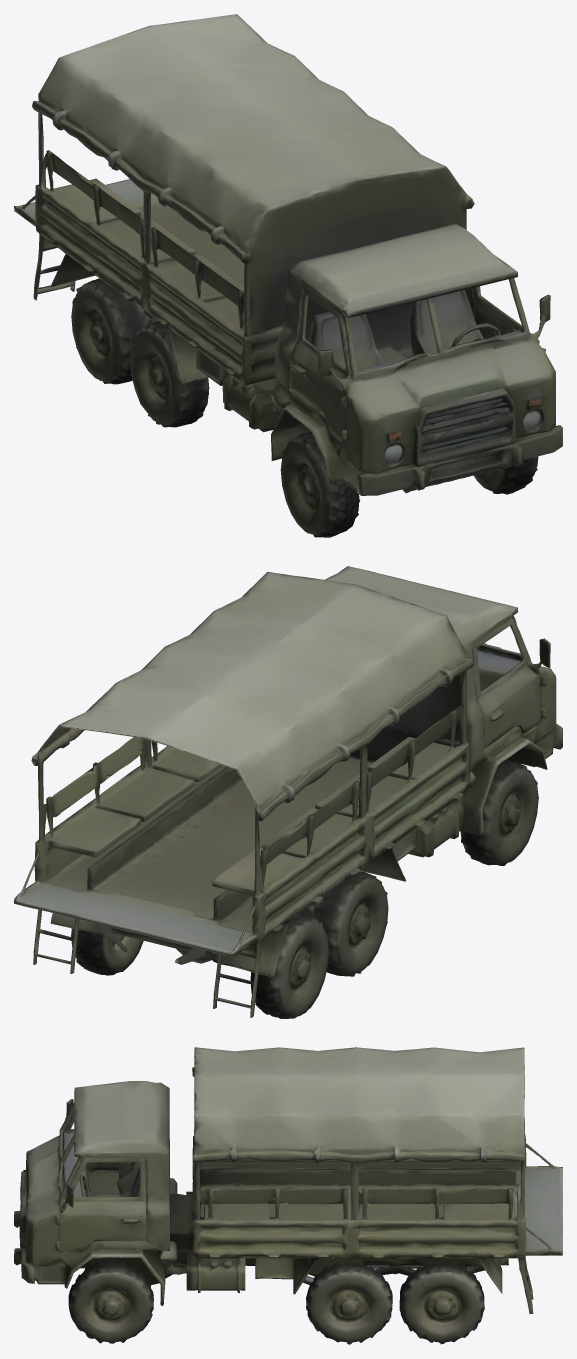
File: exercito_caminhao.glb
3 views of the same model, one above another, from view 1: azimuth 30°, elevation 25°; view 2: azimuth 150°, elevation 25°; view 3: azimuth 270°, elevation 25° (orthographic). The views are drawn at different scales.
Visible parts, largest first — view 1: tripo_node_a1d61d3a-cc22-4253-ad23-c7cff5743b50; view 2: tripo_node_a1d61d3a-cc22-4253-ad23-c7cff5743b50; view 3: tripo_node_a1d61d3a-cc22-4253-ad23-c7cff5743b50.
Part boxes in pixels (x1,y1,x2,y2): tripo_node_a1d61d3a-cc22-4253-ad23-c7cff5743b50: [14, 14, 562, 537]; tripo_node_a1d61d3a-cc22-4253-ad23-c7cff5743b50: [14, 566, 562, 1018]; tripo_node_a1d61d3a-cc22-4253-ad23-c7cff5743b50: [14, 1047, 562, 1344].
Size of the model in its own units: 3.04 by 3.53 by 7.6.
1 material, 1 textured.
